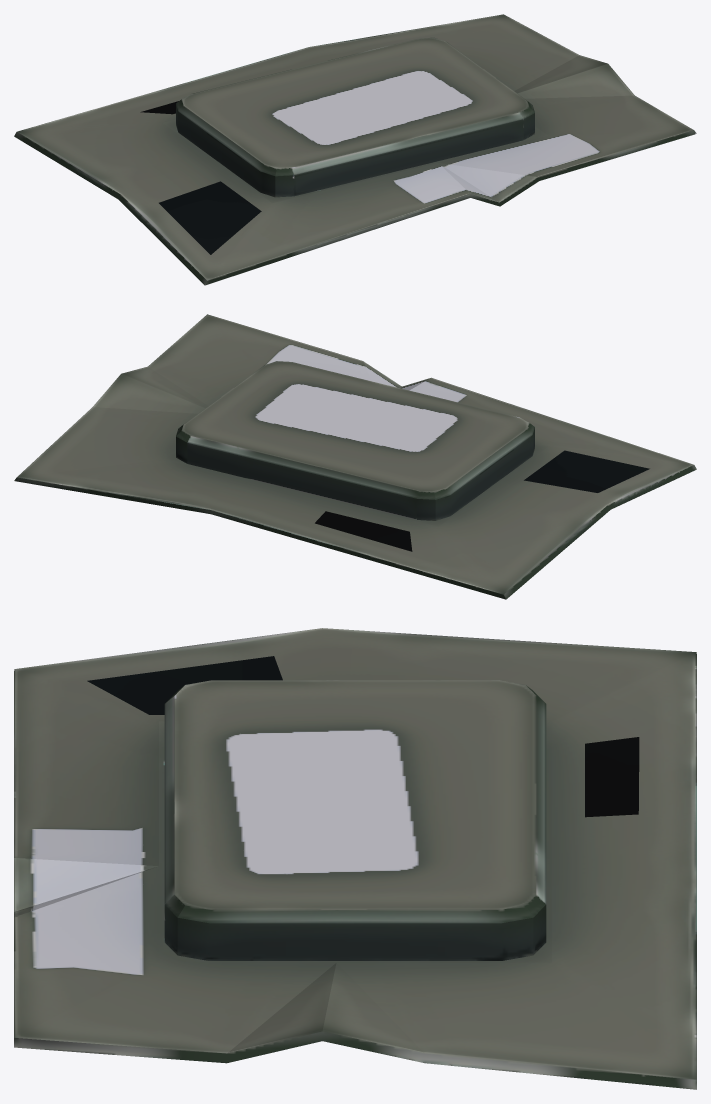
File: Seal_Container_Lo.fbx
The picture shows the model from 3 angles, top to bottom: view 1: azimuth 30°, elevation 25°; view 2: azimuth 150°, elevation 25°; view 3: azimuth 270°, elevation 25°; orthographic projection. The views are drawn at different scales.
Visible parts, largest first — view 1: pCube13; view 2: pCube13; view 3: pCube13.
Boxes of the visible parts, box(x1,y1,x2,y2) form: pCube13: box(14, 14, 696, 285); pCube13: box(14, 314, 696, 599); pCube13: box(14, 628, 696, 1089).
Size of the model in its own units: 60.57 by 6.18 by 40.67.
